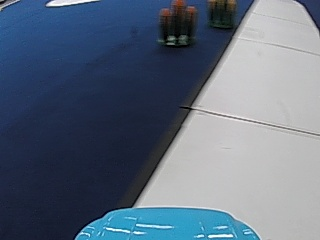corn: (158, 2, 198, 48), (210, 0, 234, 29)
